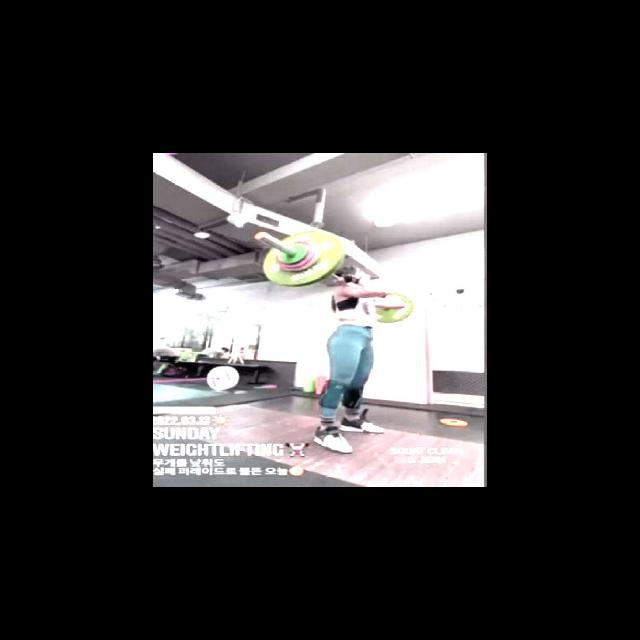barbell: (253, 230, 343, 289)
